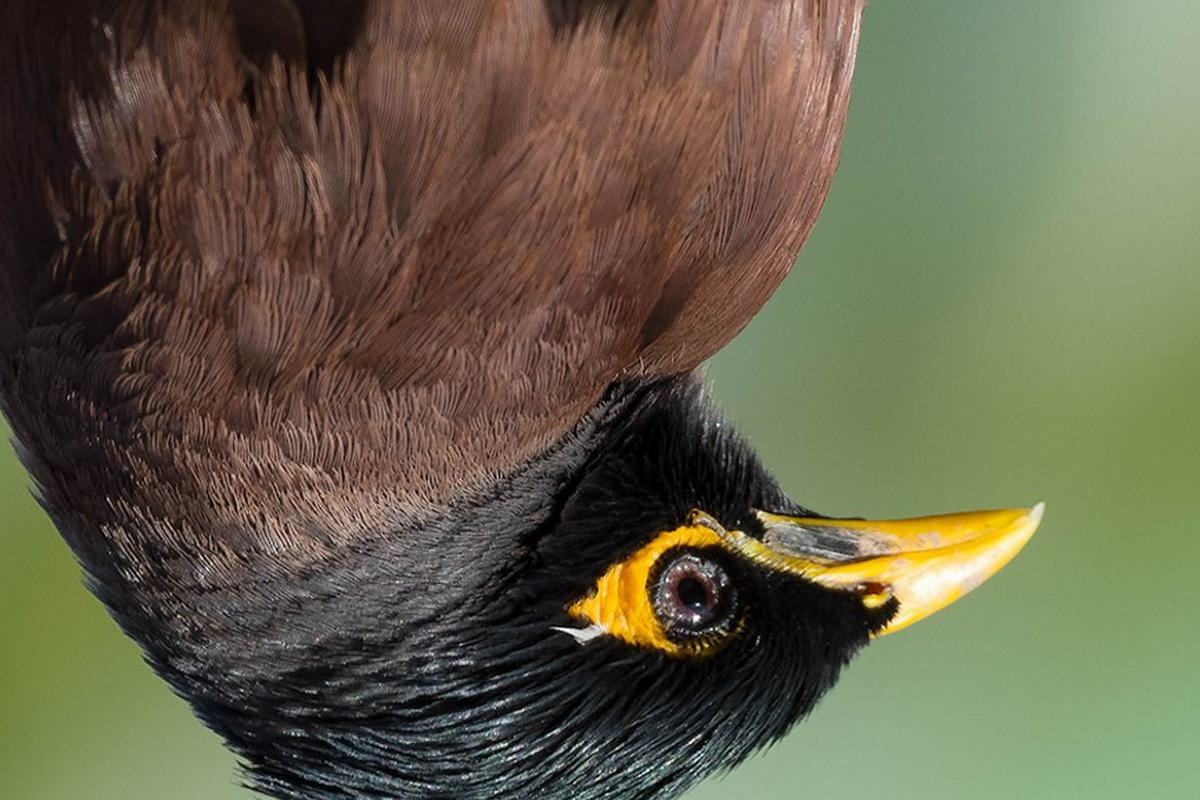myna: (36, 31, 1046, 787)
